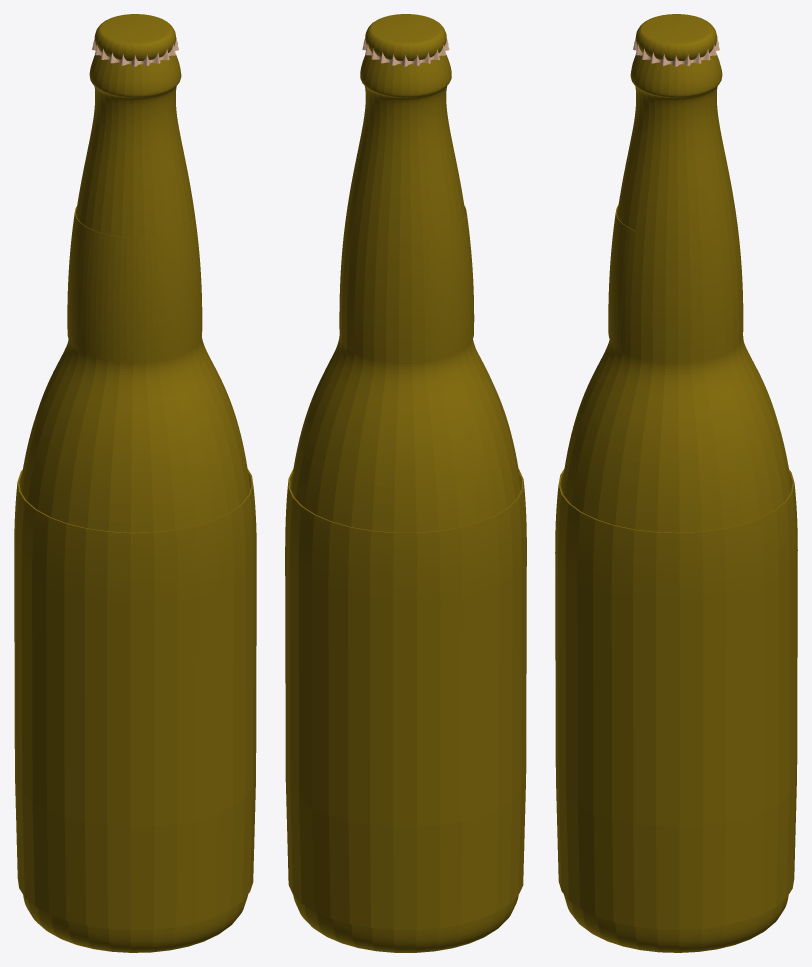
File: bottle.obj
The picture shows the model from 3 angles, left to right: view 1: azimuth 30°, elevation 25°; view 2: azimuth 150°, elevation 25°; view 3: azimuth 270°, elevation 25°; orthographic projection.
Parts seen in each view (by area): view 1: label_big01, body01, label_small01, tutup_botol04, Star05; view 2: label_big01, body01, label_small01, tutup_botol04, Star05; view 3: label_big01, body01, tutup_botol04, label_small01, Star05.
Part boxes in pixels (box(x1,y1,x2,y2)): label_big01: box(14, 469, 256, 929); body01: box(20, 55, 250, 952); label_small01: box(67, 206, 201, 362); tutup_botol04: box(94, 14, 176, 60); Star05: box(92, 38, 178, 66); label_big01: box(285, 469, 526, 929); body01: box(291, 55, 521, 952); label_small01: box(423, 206, 474, 361); tutup_botol04: box(365, 14, 446, 60); Star05: box(362, 38, 449, 66); label_big01: box(555, 469, 797, 929); body01: box(561, 55, 791, 952); tutup_botol04: box(635, 14, 717, 60); label_small01: box(608, 205, 635, 354); Star05: box(633, 38, 719, 66).
Size of the model in its own units: 72.46 by 291 by 72.46.
